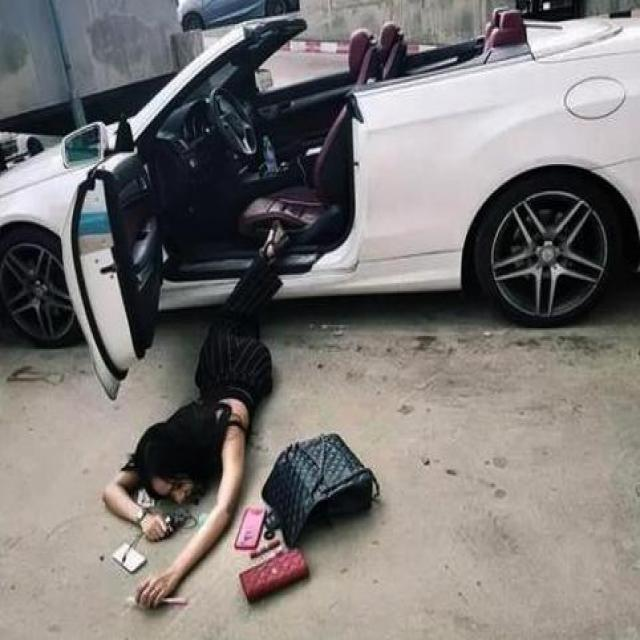fall: (116, 222, 268, 539)
